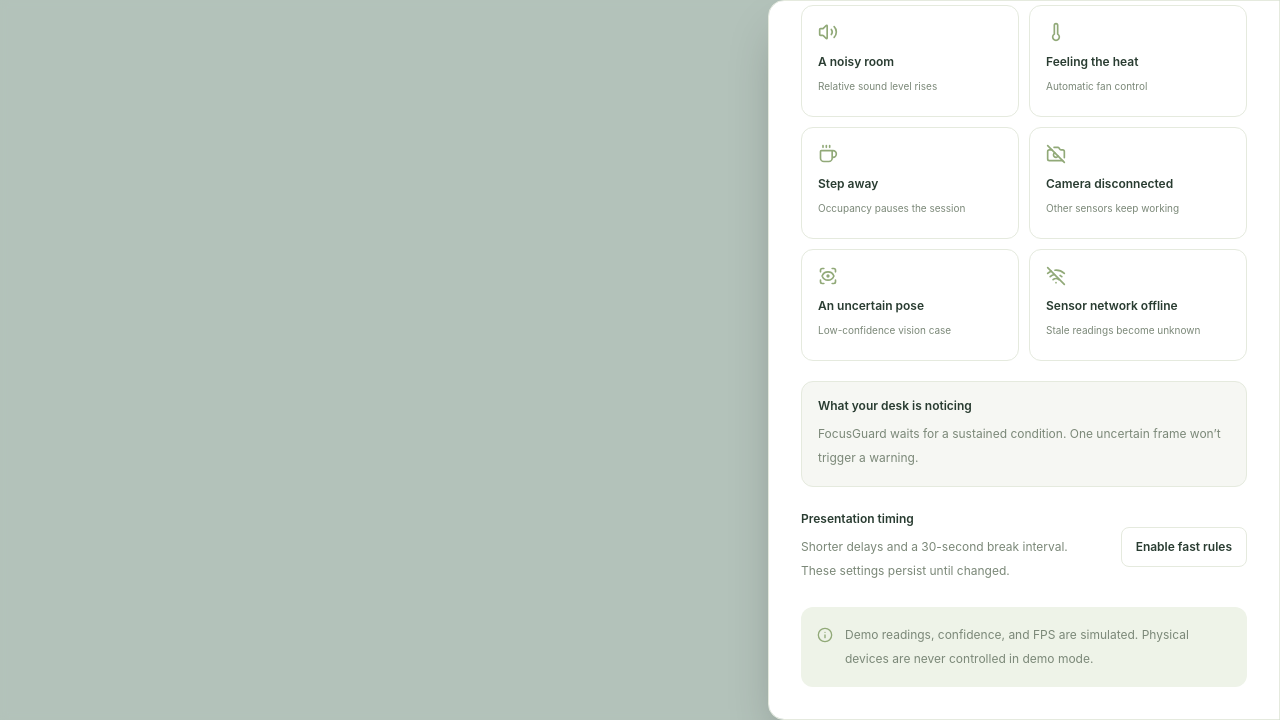
Test: demo lab workflow › saves presentation timing as settings and communicates persistence
The width and height of the screenshot is (1280, 720).
(page scrolled)
What coordinates should you click on to do the following:
click the button "Enable fast rules"
I would click on:
 (1184, 547)
Its box is left=1121, top=527, right=1247, bottom=567.
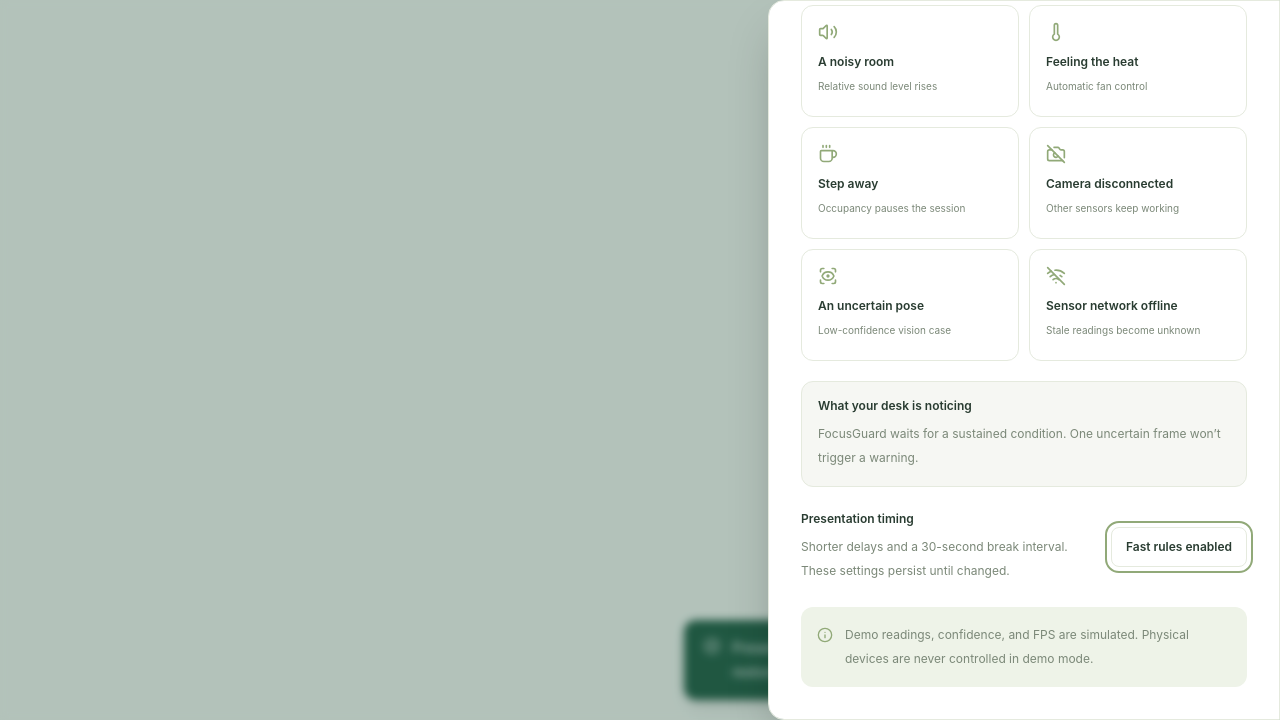
Expected: the text "These settings persist until changed" is shown, left=801, top=539, right=1068, bottom=578
Expected: the button "Fast rules enabled" is shown, left=1111, top=527, right=1247, bottom=567
